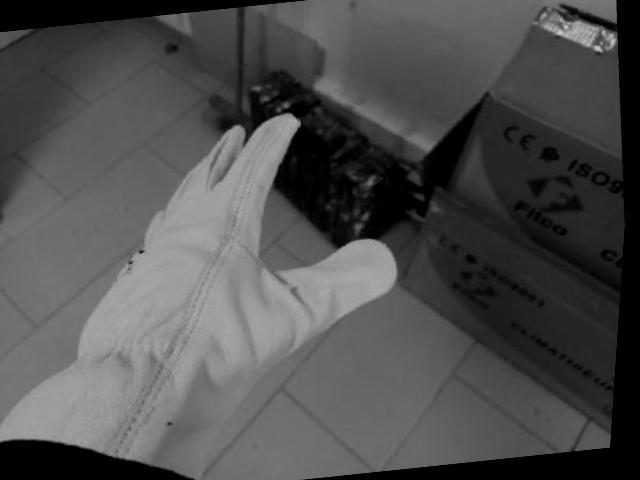Hand-in-Glove: (0, 100, 436, 480)
